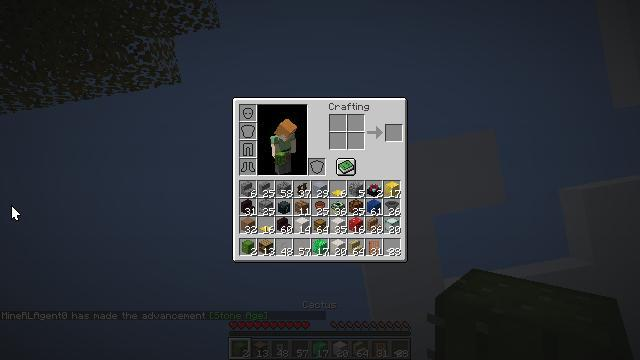cursor: (11, 205, 21, 221)
